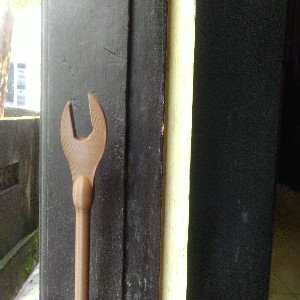spanner: (60, 91, 107, 300)
